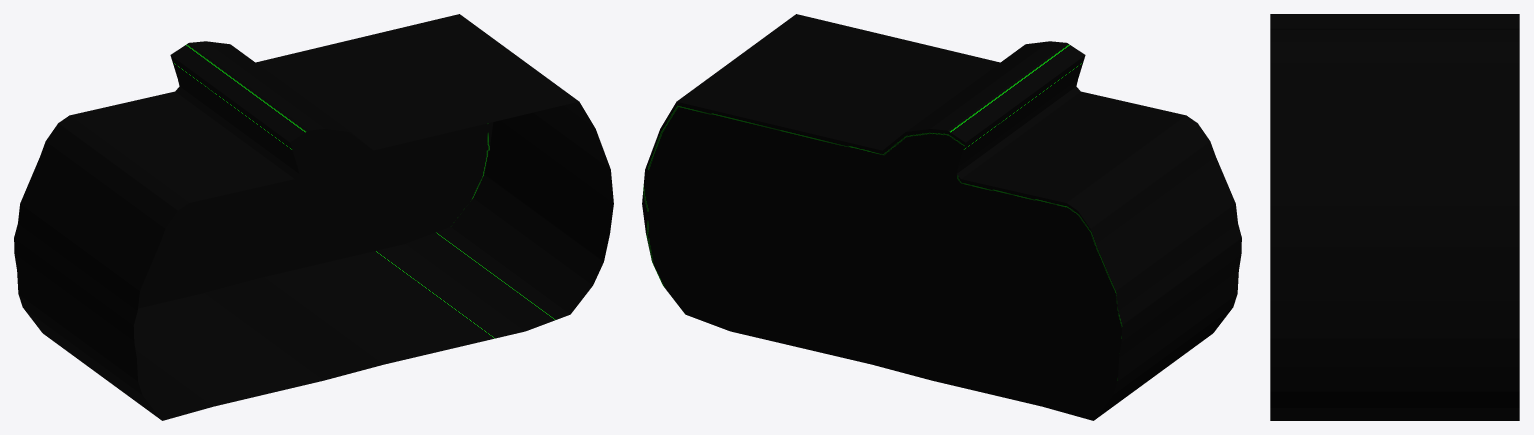
Rendered from Shadow_Maruta_05.FBX.
3 renders of one model, left to right at view 1: azimuth 30°, elevation 25°; view 2: azimuth 150°, elevation 25°; view 3: azimuth 270°, elevation 25°, orthographic. The views are drawn at different scales.
Visible parts, largest first — view 1: Line001; view 2: Line001; view 3: Line001.
Boxes of the visible parts, <box> form: Line001: <box>14,14,613,420</box>; Line001: <box>642,14,1241,420</box>; Line001: <box>1270,14,1519,420</box>.
Bounding box in the file's own units: 3.47 × 1.76 × 1.5.
